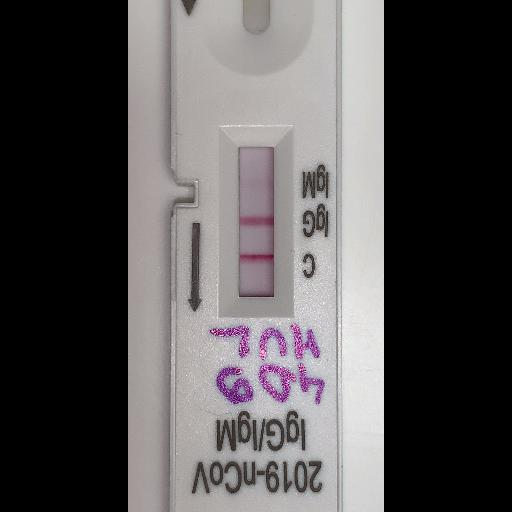Pos: (169, 0, 340, 511)
